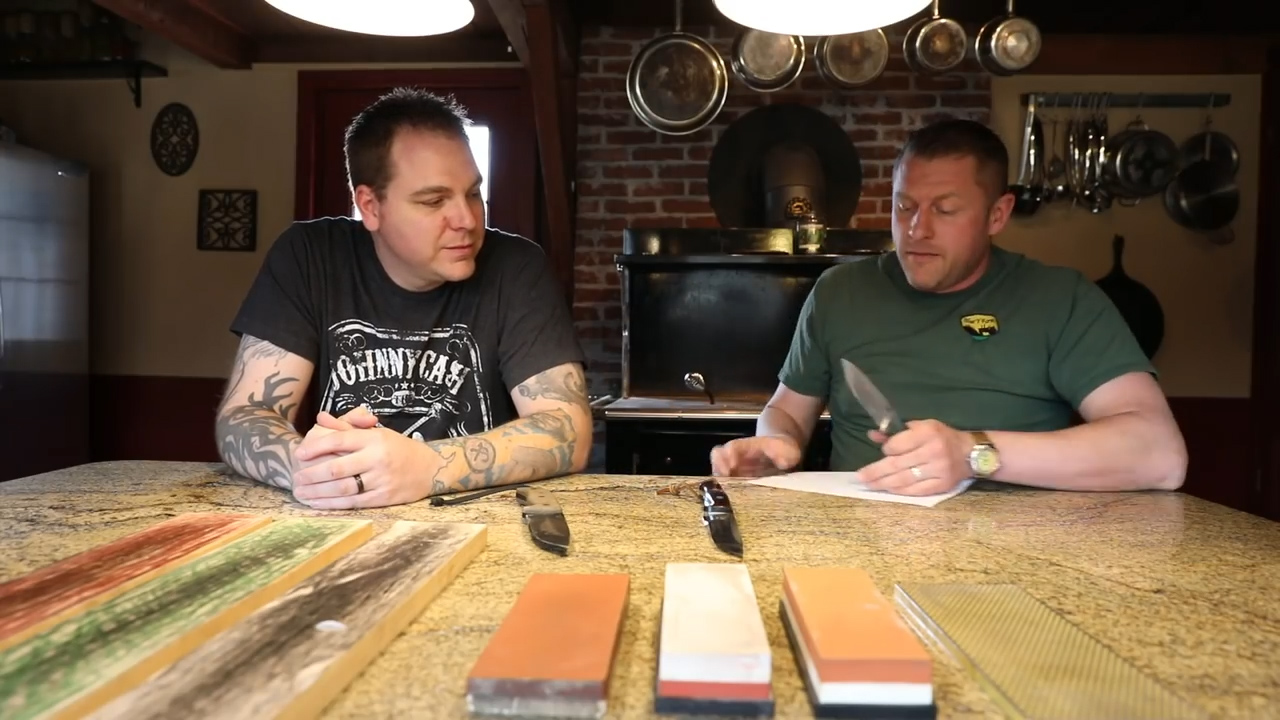knife: (826, 343, 960, 493)
